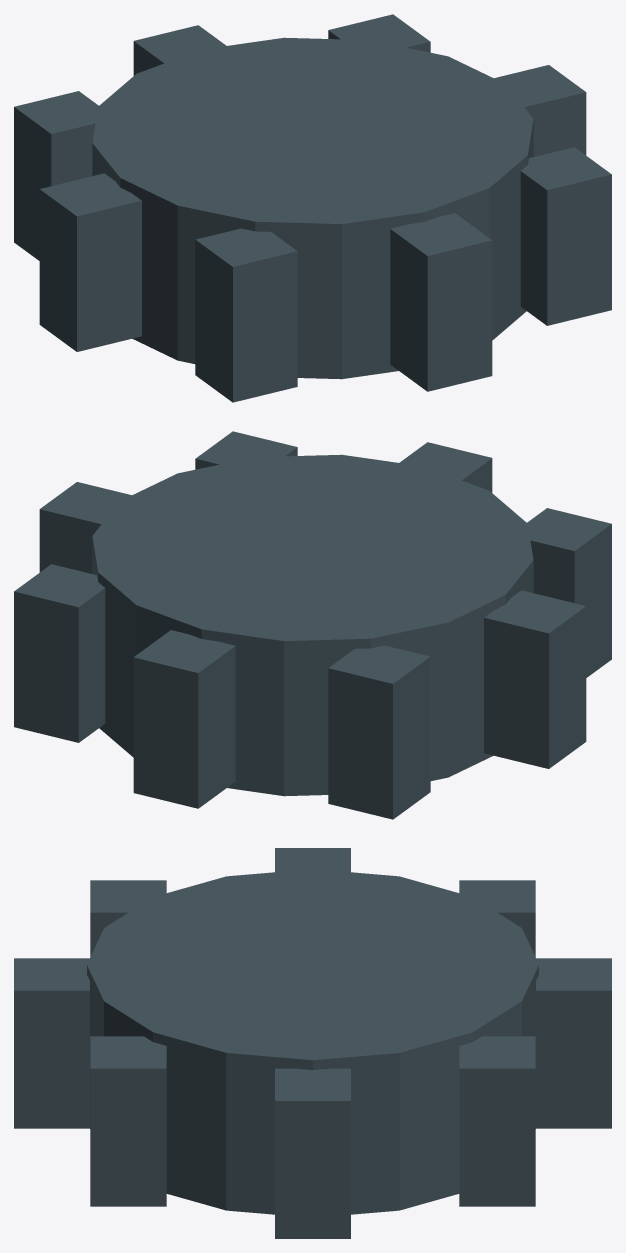
File: set_oil_filter.glb
3 renders of one model, top to bottom at view 1: azimuth 30°, elevation 25°; view 2: azimuth 150°, elevation 25°; view 3: azimuth 270°, elevation 25°, orthographic.
Parts seen in each view (by area): view 1: set_oil_filter; view 2: set_oil_filter; view 3: set_oil_filter.
Boxes of the visible parts, left/top/right/bottom form: set_oil_filter: left=14, top=14, right=611, bottom=402; set_oil_filter: left=14, top=431, right=611, bottom=819; set_oil_filter: left=14, top=848, right=611, bottom=1238.
Size of the model in its own units: 0.275 by 0.08 by 0.275.
